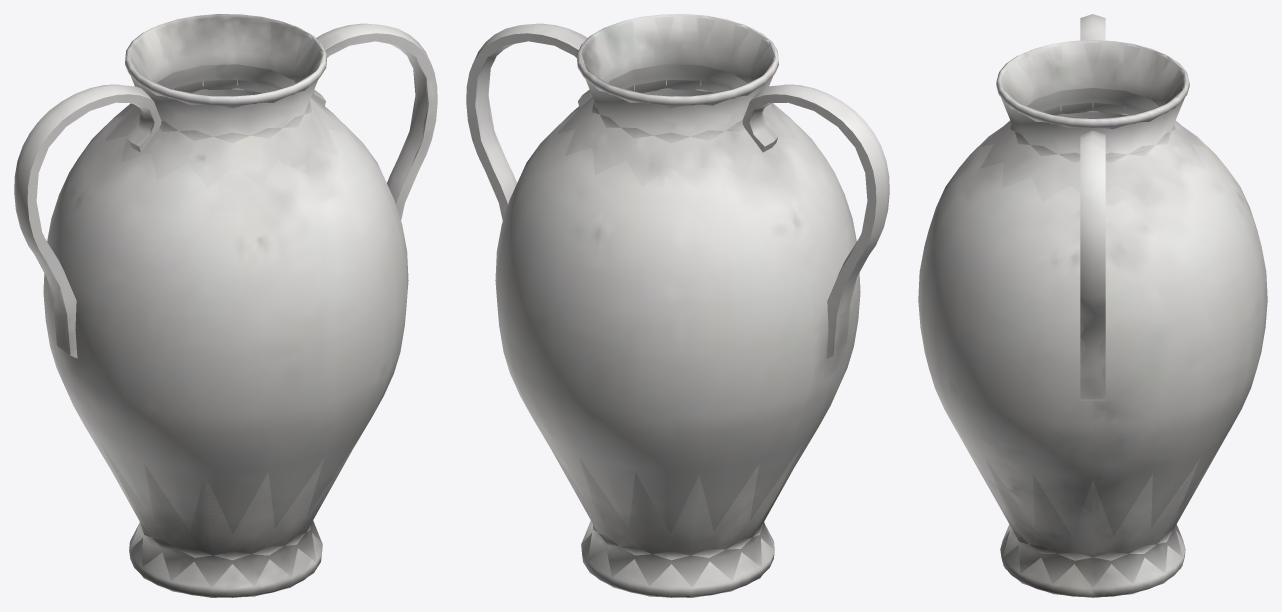
Rendered from Amphora.glb.
The picture shows the model from 3 angles, left to right: view 1: azimuth 30°, elevation 25°; view 2: azimuth 150°, elevation 25°; view 3: azimuth 270°, elevation 25°; orthographic projection. The views are drawn at different scales.
Parts seen in each view (by area): view 1: Amphora; view 2: Amphora; view 3: Amphora.
Boxes of the visible parts, x1,y1,x2,y2 form: Amphora: (14,14,437,597); Amphora: (466,14,889,597); Amphora: (918,14,1267,597).
Size of the model in its own units: 0.3896 by 0.4476 by 0.2952.
1 material, 1 textured.
